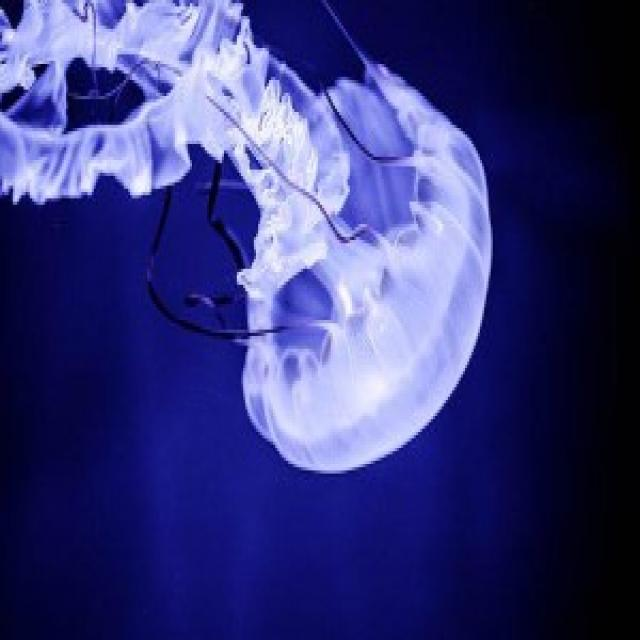Jellyfish: (2, 0, 493, 492)
